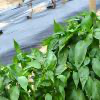Bell_pepper leaf: (75, 40, 87, 69), (46, 49, 57, 71), (78, 65, 88, 88), (33, 76, 46, 92), (30, 47, 44, 61), (17, 76, 28, 93), (58, 48, 68, 64), (25, 60, 41, 70), (12, 38, 22, 54), (85, 8, 92, 29), (58, 35, 69, 48), (56, 74, 67, 87), (92, 56, 99, 76), (9, 85, 19, 99), (2, 75, 13, 86), (85, 32, 93, 47), (56, 64, 68, 74), (39, 79, 52, 88), (46, 70, 54, 83)
